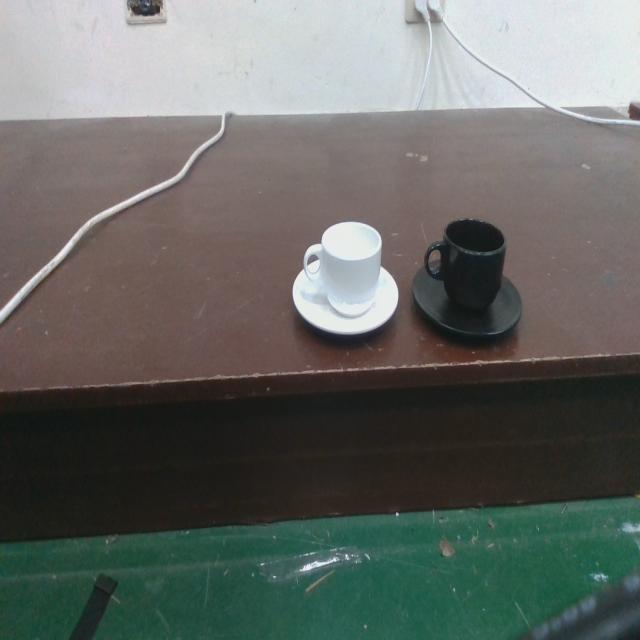black: (409, 214, 524, 344)
white: (292, 216, 401, 344)
